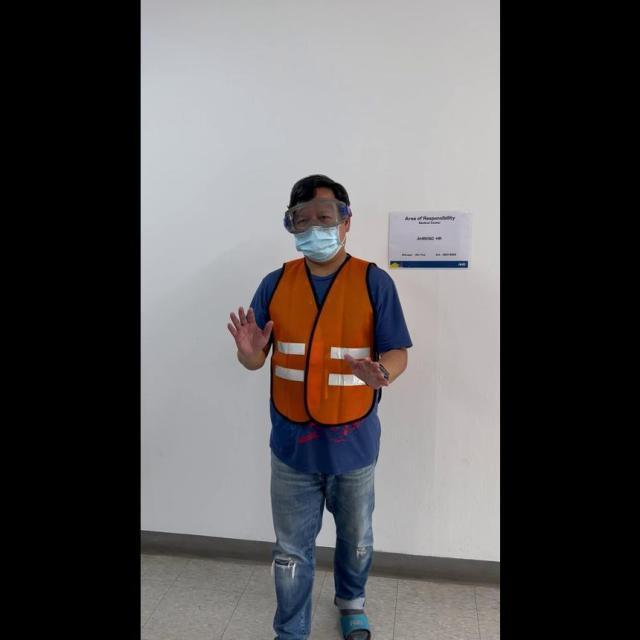bare_hand: (224, 300, 272, 363), (341, 348, 389, 391)
